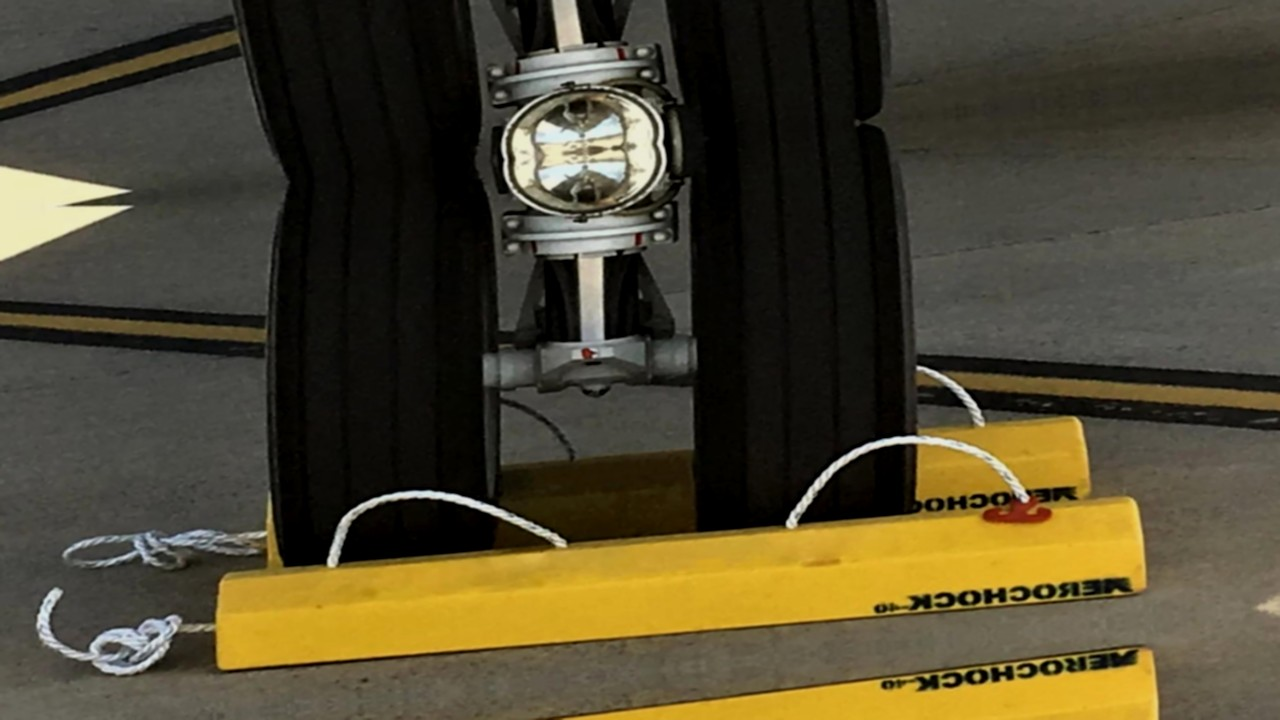chock: (201, 473, 1159, 693), (241, 400, 1099, 587), (217, 642, 1175, 720)
wheel: (246, 161, 525, 572), (674, 121, 938, 538), (210, 0, 489, 186), (637, 0, 901, 139)
